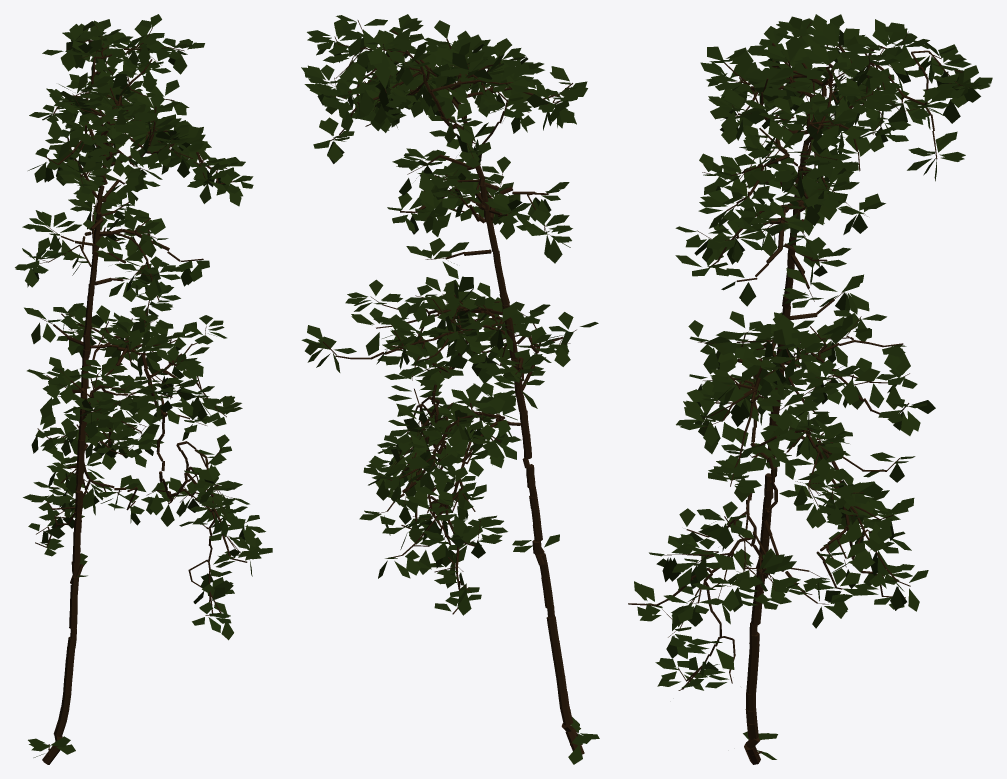
File: tree_115.obj
3 views of the same model, side by side, from view 1: azimuth 30°, elevation 25°; view 2: azimuth 150°, elevation 25°; view 3: azimuth 270°, elevation 25° (orthographic). The views are drawn at different scales.
Visible parts, largest first — view 1: Leaves, TrunkAndBranches; view 2: Leaves, TrunkAndBranches; view 3: Leaves, TrunkAndBranches.
Part boxes in pixels (x1=…): Leaves: x1=15, y1=14, x2=272, y2=757; TrunkAndBranches: x1=35, y1=25, x2=247, y2=764; Leaves: x1=301, y1=14, x2=599, y2=764; TrunkAndBranches: x1=322, y1=20, x2=584, y2=754; Leaves: x1=634, y1=14, x2=992, y2=759; TrunkAndBranches: x1=628, y1=22, x2=970, y2=764.
Size of the model in its own units: 3.11 by 9.08 by 3.72.
